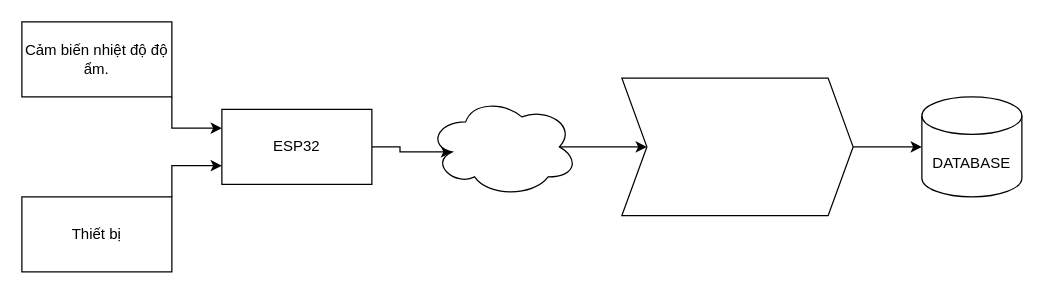
This 1044x294 diagram has some shape labels left out. Each missing label, with the centre of its shape:
"Lịch sử đóng tắt Nhiệt độ độ ẩm từng giờ" belongs at (x=737, y=146).
"Web Server" belongs at (x=502, y=146).
